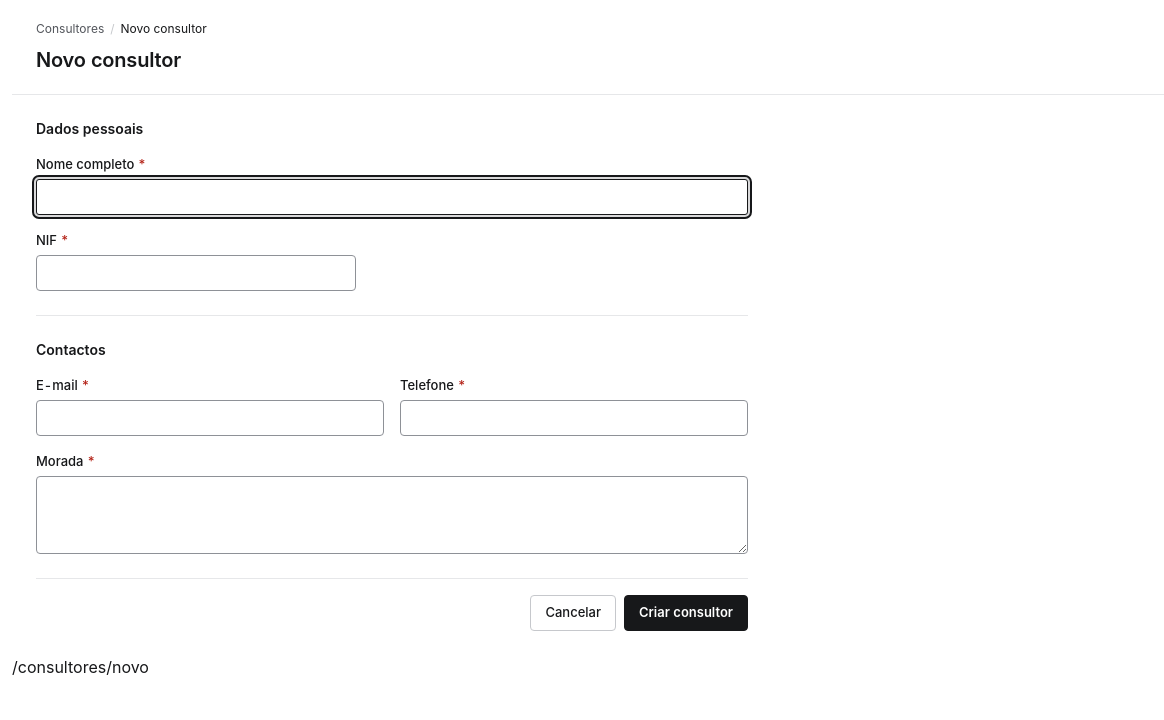
Scenario: ConsultantForm › keeps required validation and does not submit an empty form
Step 1. Click the button "Criar consultor" → [686, 613], box [624,595,748,631]
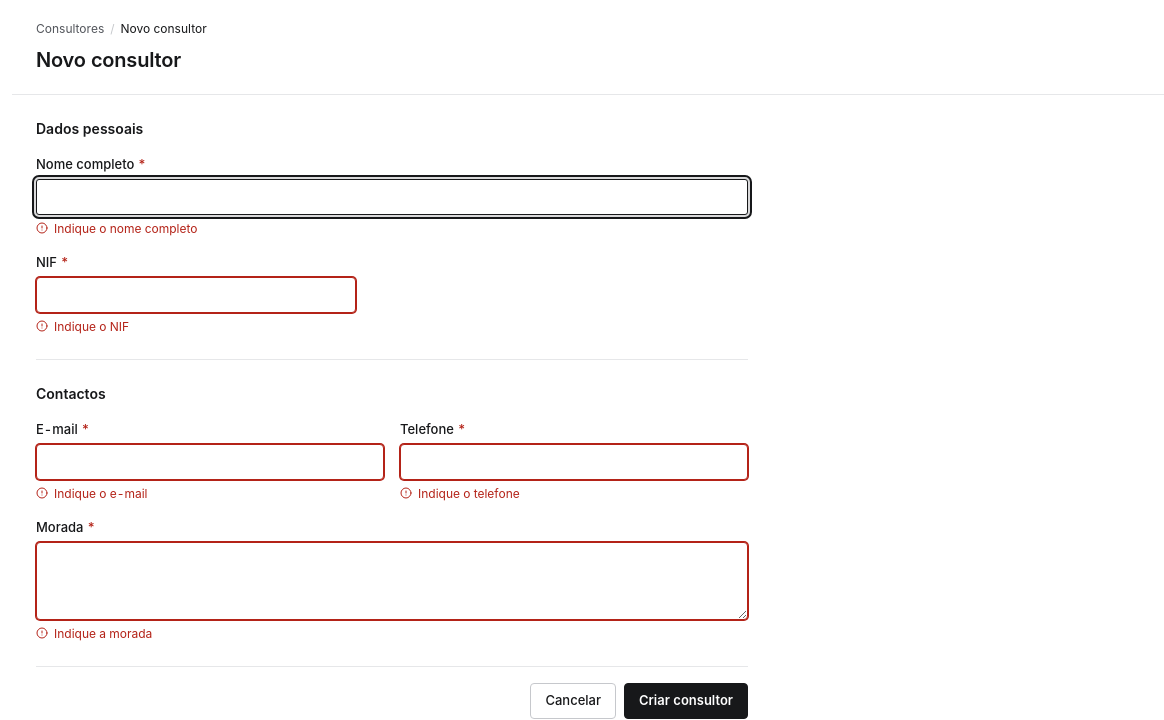
Result: the text "Indique o nome completo" is shown at [54,221,198,237]
Result: the text "Indique o NIF" is shown at [54,319,129,335]
Result: the text "Indique o e-mail" is shown at [54,486,148,502]
